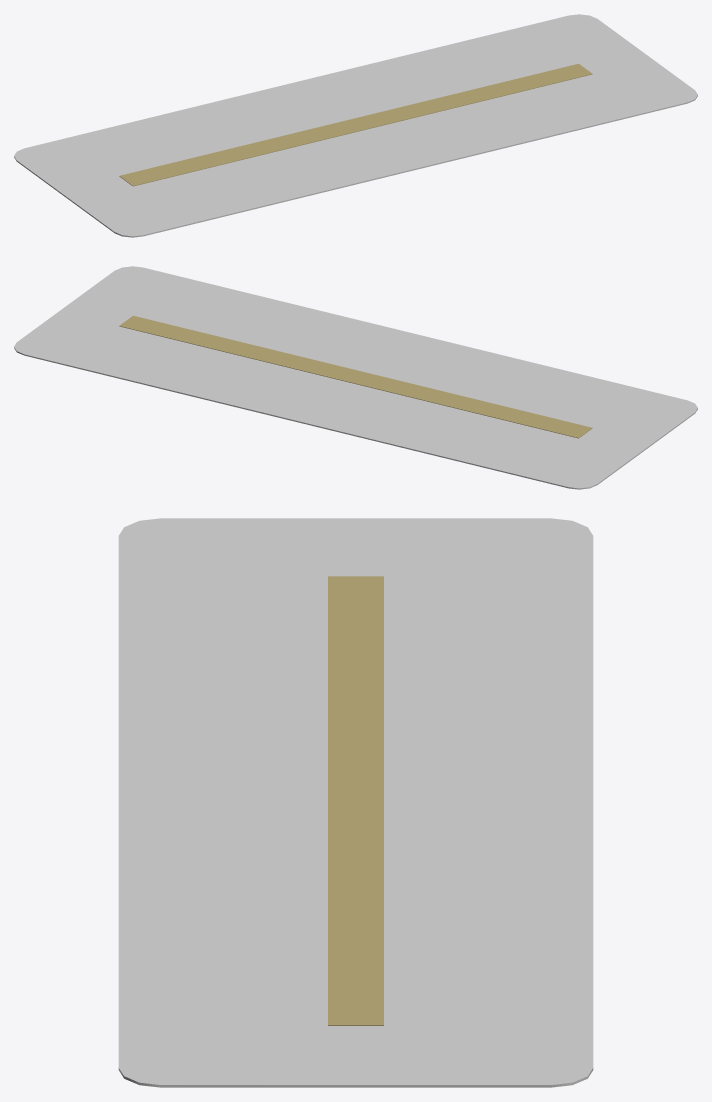
The model's file is judai.fbx.
The picture shows the model from 3 angles, top to bottom: view 1: azimuth 30°, elevation 25°; view 2: azimuth 150°, elevation 25°; view 3: azimuth 270°, elevation 25°; orthographic projection. The views are drawn at different scales.
Parts seen in each view (by area): view 1: judai; view 2: judai; view 3: judai.
Part boxes in pixels (x1,y1,x2,y2): judai: (14, 14, 697, 237); judai: (14, 266, 697, 489); judai: (118, 518, 593, 1087).
Size of the model in its own units: 24 by 0.07 by 8.5.
